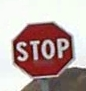stop: (12, 20, 73, 77)
